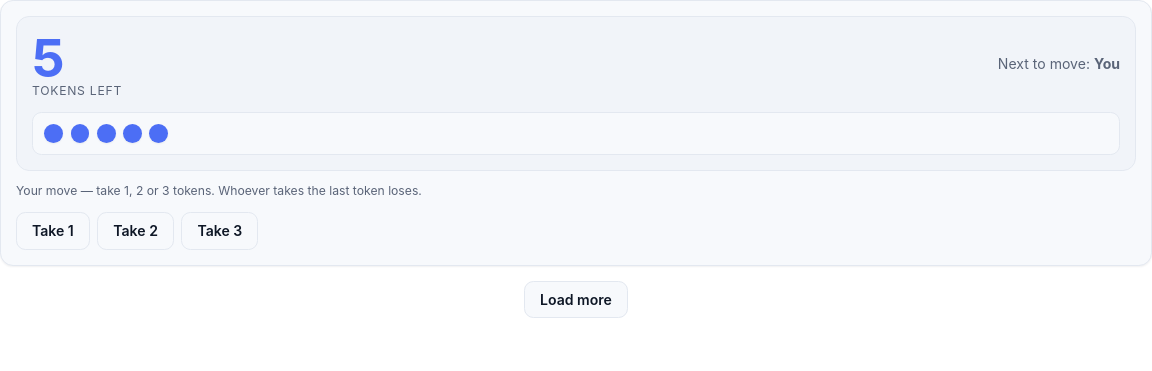
it: TrainingPackFeed: card result variants › shows the fail badge when the attempt is incorrect
Click the button with test id "puzzle-take-3".
click(220, 231)  # box top-left (181, 212), bottom-right (258, 250)
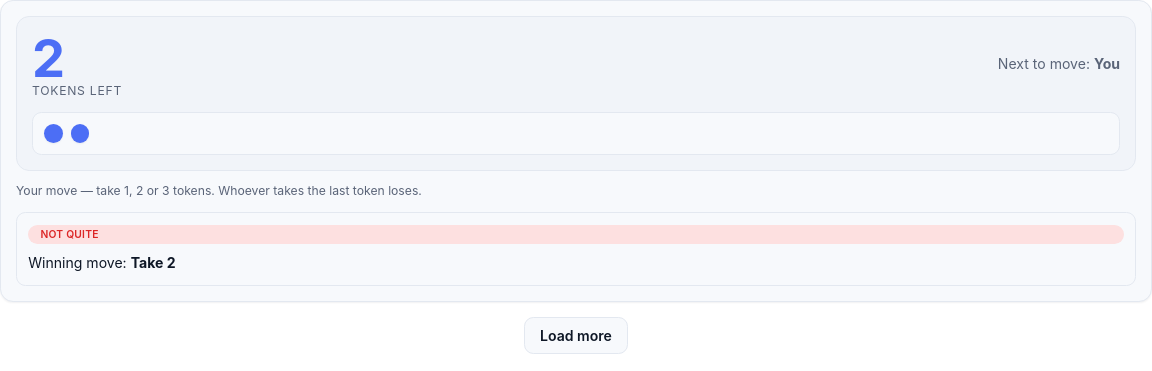
Now the element with test id "training-result" shows "Not quite", box top-left (40, 228), bottom-right (99, 240)
